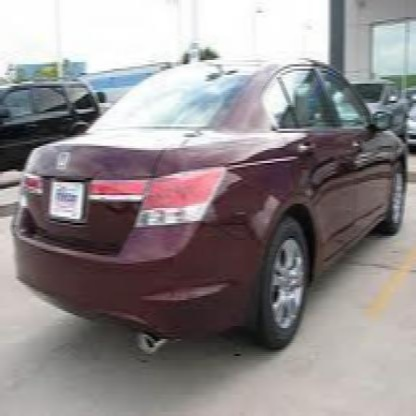Vehicle: (13, 62, 414, 354)
